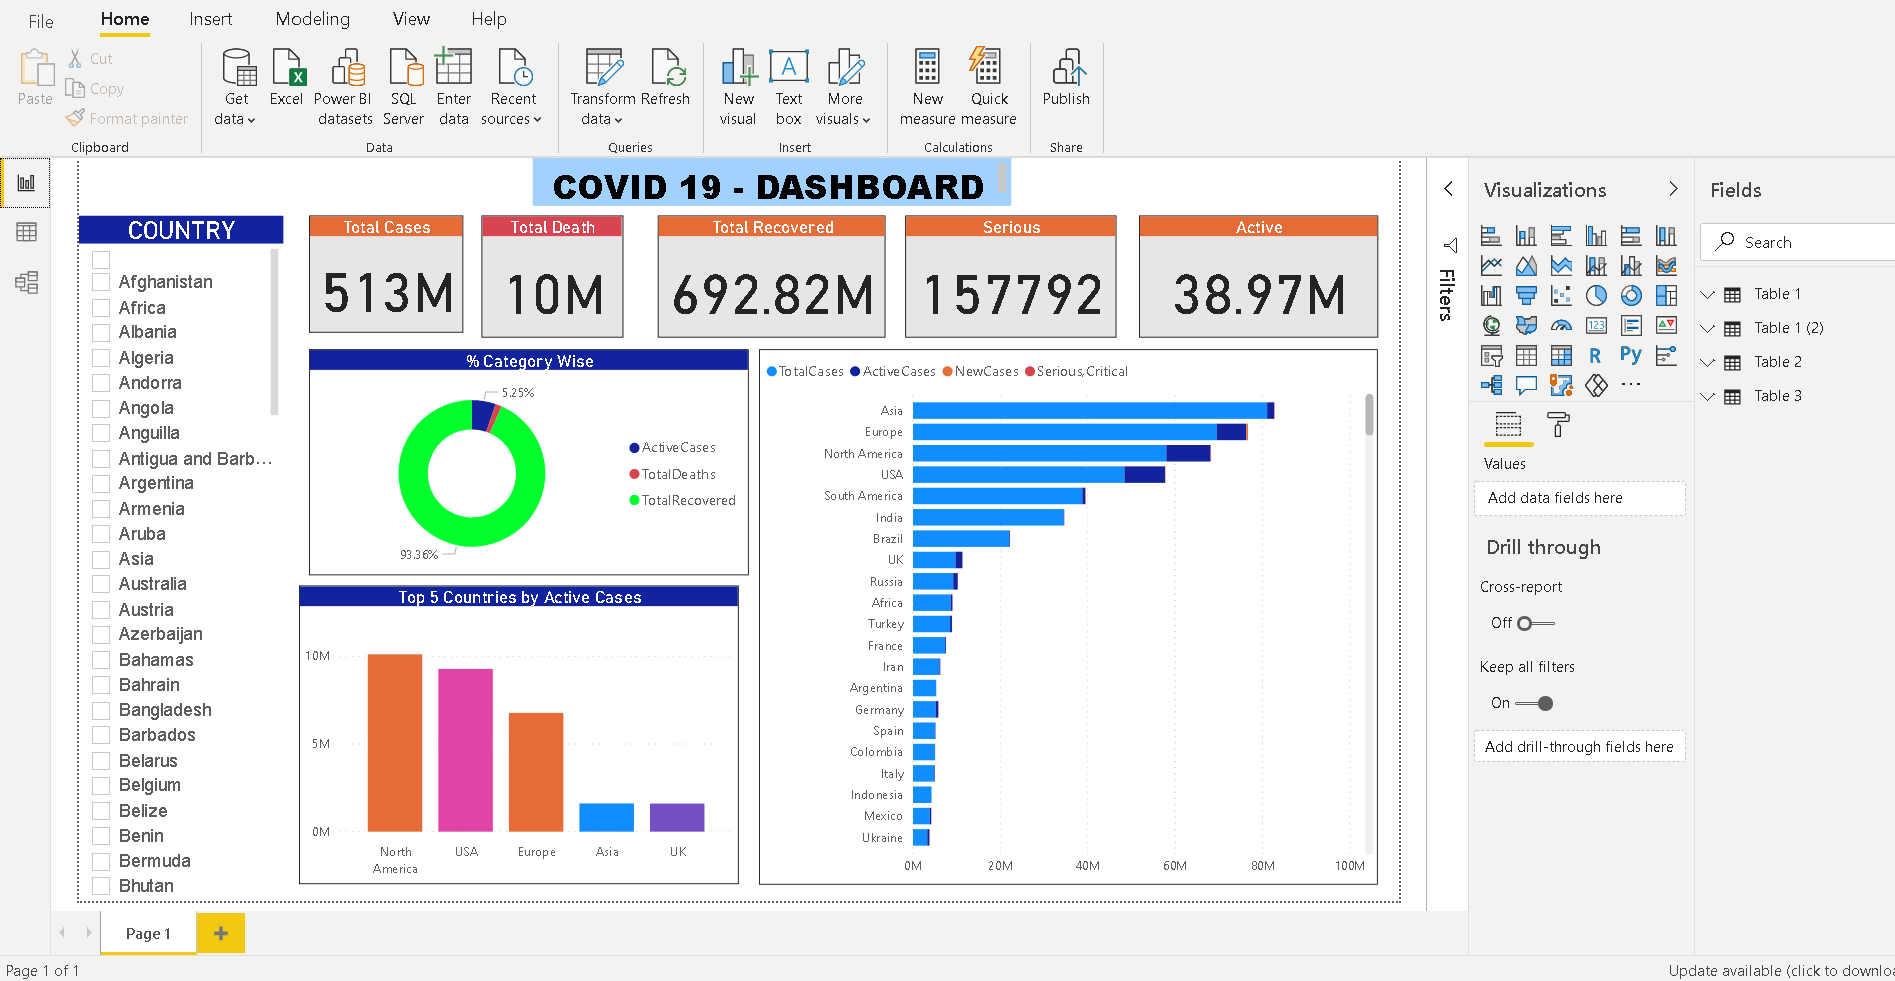

The page's visual inventory and layout, read from the dashboard file:
{"tool":"powerbi","page":{"name":"Page 1","canvas":[1280,720],"ordinal":0},"visuals":[{"type":"slicer","title":"COUNTRY","fields":{"Values":["Table 1.Country,Other"]},"box":[0,55.8,198.8,664.2],"z":0},{"type":"card","title":"Total Cases","fields":{"Values":["Sum(Table 1.TotalCases)"]},"box":[222.5,56.3,149.7,114],"z":1000},{"type":"card","title":"Total Death","fields":{"Values":["Sum(Table 1.TotalDeaths)"]},"box":[390,56.3,137.3,118.1],"z":2000},{"type":"card","title":"Serious","fields":{"Values":["Sum(Table 1.Serious,Critical)"]},"box":[800.7,56.3,204.6,118.1],"z":3000},{"type":"card","title":"Active","fields":{"Values":["Sum(Table 1.ActiveCases)"]},"box":[1027.3,56.3,232.1,118.1],"z":4000},{"type":"donutChart","title":"% Category Wise","fields":{"Y":["Sum(Table 1.ActiveCases)","Sum(Table 1.TotalDeaths)","Sum(Table 1 (2).TotalRecovered)"]},"box":[223,185.5,426.7,219.4],"z":5000},{"type":"card","title":"Total Recovered","fields":{"Values":["Sum(Table 1 (2).TotalRecovered)"]},"box":[561.7,56.3,221.1,118.1],"z":6000},{"type":"columnChart","title":"Top 5 Countries by Active Cases","fields":{"Category":["Table 1.Country,Other"],"Y":["Sum(Table 1.ActiveCases)"]},"box":[213.3,414.5,426.7,289.7],"z":7000},{"type":"barChart","fields":{"Category":["Table 1.Country,Other"],"Y":["Sum(Table 1.TotalCases)","Sum(Table 1.ActiveCases)","Sum(Table 1.NewCases)","Sum(Table 1.Serious,Critical)"]},"box":[659.2,185.4,600.2,519.1],"z":8000},{"type":"textbox","box":[440,0,464.2,46.1],"z":8001}]}

Visuals, with their boxes on the page's 1280x720 design canvas (x1, y1, x2, y2). These are canvas units, not pixel positions in the 1895x981 screenshot, which may show the page scaled, cropped or inside an application window:
"COUNTRY" slicer: <bbox>0, 56, 199, 720</bbox>
"Total Cases" card: <bbox>222, 56, 372, 170</bbox>
"Total Death" card: <bbox>390, 56, 527, 174</bbox>
"Serious" card: <bbox>801, 56, 1005, 174</bbox>
"Active" card: <bbox>1027, 56, 1259, 174</bbox>
"% Category Wise" donutChart: <bbox>223, 186, 650, 405</bbox>
"Total Recovered" card: <bbox>562, 56, 783, 174</bbox>
"Top 5 Countries by Active Cases" columnChart: <bbox>213, 414, 640, 704</bbox>
barChart - Table 1.Country,Other x Sum(Table 1.TotalCases): <bbox>659, 185, 1259, 704</bbox>
textbox: <bbox>440, 0, 904, 46</bbox>
